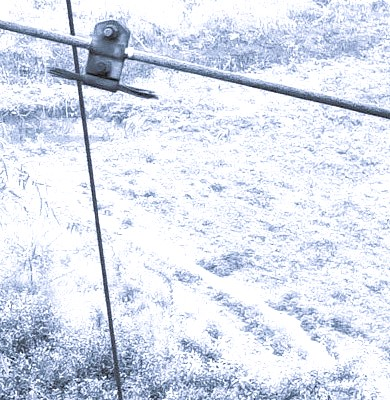Damage of shockproof hammer: (33, 15, 164, 110)
